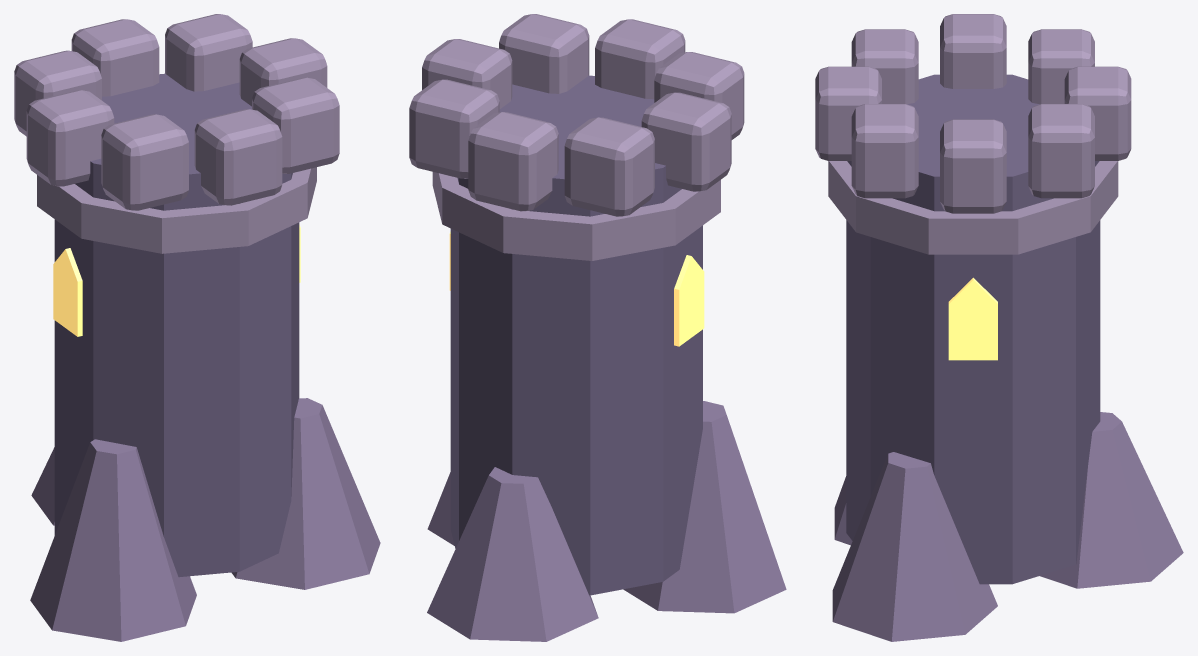
Rendered from ember_tower_a.glb.
3 renders of one model, left to right at view 1: azimuth 30°, elevation 25°; view 2: azimuth 150°, elevation 25°; view 3: azimuth 270°, elevation 25°, orthographic. The views are drawn at different scales.
Parts seen in each view (by area): view 1: TowerBody, BasaltShoulder.002, BasaltShoulder.001, UpperBand, Crenel_05, Crenel_04, Crenel_06, Crenel_03, Crenel_01, Crenel_00, Crenel_07, Crenel_02 (+2 smaller); view 2: TowerBody, BasaltShoulder, BasaltShoulder.002, UpperBand, Crenel_07, Crenel_00, Crenel_06, Crenel_01, Crenel_03, Crenel_04, Crenel_05, Crenel_02 (+2 smaller); view 3: TowerBody, BasaltShoulder.001, UpperBand, BasaltShoulder, Crenel_03, Crenel_02, Crenel_01, Crenel_06, Crenel_00, Crenel_04, Crenel_05, Crenel_07 (+2 smaller).
Part boxes in pixels (x1,y1,x2,y2): TowerBody: (54,73,299,577); BasaltShoulder.002: (30,439,196,641); BasaltShoulder.001: (231,398,380,589); UpperBand: (37,167,316,253); Crenel_05: (101,114,188,210); Crenel_04: (194,109,282,205); Crenel_06: (26,90,114,186); Crenel_03: (252,77,339,173); Crenel_01: (165,14,252,91); Crenel_00: (71,19,159,96); Crenel_07: (14,50,101,136); Crenel_02: (239,38,327,106); TowerBody: (450,75,702,595); BasaltShoulder: (427,467,598,641); BasaltShoulder.002: (623,401,786,613); UpperBand: (432,172,720,260); Crenel_07: (564,117,654,216); Crenel_00: (468,112,558,211); Crenel_06: (641,92,731,191); Crenel_01: (409,79,499,178); Crenel_03: (499,14,589,93); Crenel_04: (595,19,685,99); Crenel_05: (654,52,744,139); Crenel_02: (422,39,512,108); TowerBody: (846,74,1100,584); BasaltShoulder.001: (832,452,997,641); UpperBand: (828,161,1118,254); BasaltShoulder: (1040,412,1183,588); Crenel_03: (851,104,918,198); Crenel_02: (940,119,1006,213); Crenel_01: (1028,104,1094,198); Crenel_06: (940,14,1006,88); Crenel_00: (1064,66,1131,160); Crenel_04: (815,66,881,160); Crenel_05: (851,29,918,104); Crenel_07: (1028,29,1094,104).
Bounding box in the file's own units: 5.29 × 7.48 × 5.08.
